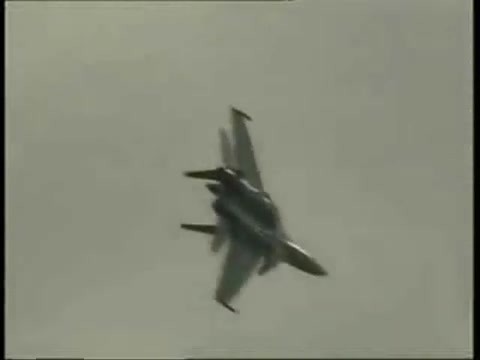aeroplane: (178, 105, 331, 316)
